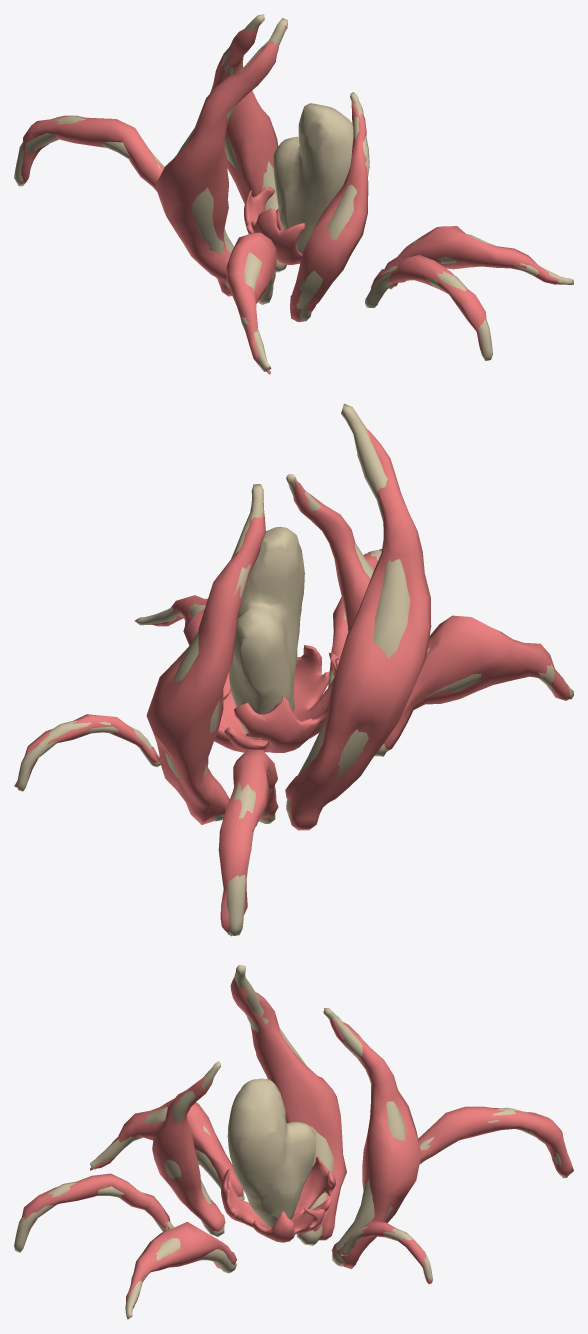
The model's file is FullCrystal.fbx.
3 views of the same model, one above another, from view 1: azimuth 30°, elevation 25°; view 2: azimuth 150°, elevation 25°; view 3: azimuth 270°, elevation 25° (orthographic). The views are drawn at different scales.
Visible parts, largest first — view 1: VeinHull, VeinCore, CrystalThing_low, CrystalBase_low; view 2: VeinHull, VeinCore, CrystalThing_low, CrystalBase_low; view 3: VeinHull, VeinCore, CrystalThing_low, CrystalBase_low.
Part boxes in pixels (left/top/right/bottom): VeinHull: left=21, top=19, right=558, bottom=374; VeinCore: left=14, top=14, right=573, bottom=371; CrystalThing_low: left=273, top=103, right=353, bottom=253; CrystalBase_low: left=244, top=186, right=305, bottom=264; VeinHull: left=14, top=428, right=569, bottom=936; VeinCore: left=17, top=403, right=573, bottom=935; CrystalThing_low: left=229, top=526, right=304, bottom=740; CrystalBase_low: left=214, top=645, right=339, bottom=752; VeinHull: left=22, top=968, right=573, bottom=1308; VeinCore: left=14, top=965, right=568, bottom=1319; CrystalThing_low: left=227, top=1078, right=315, bottom=1227; CrystalBase_low: left=221, top=1155, right=335, bottom=1242.
Bounding box in the file's own units: 21.98 × 19.29 × 34.83.
